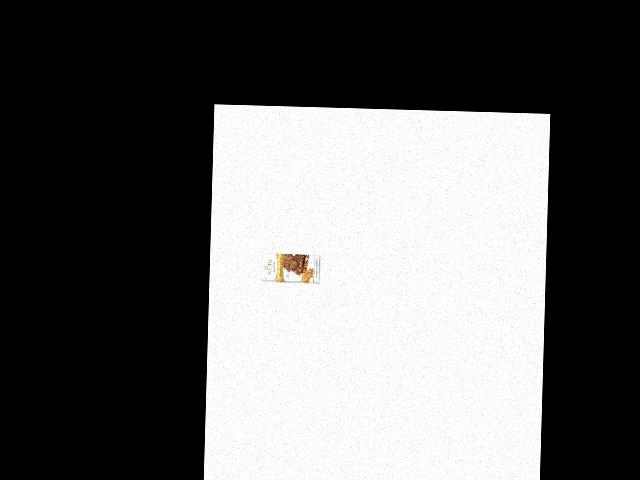chocolate: (258, 252, 322, 285)
